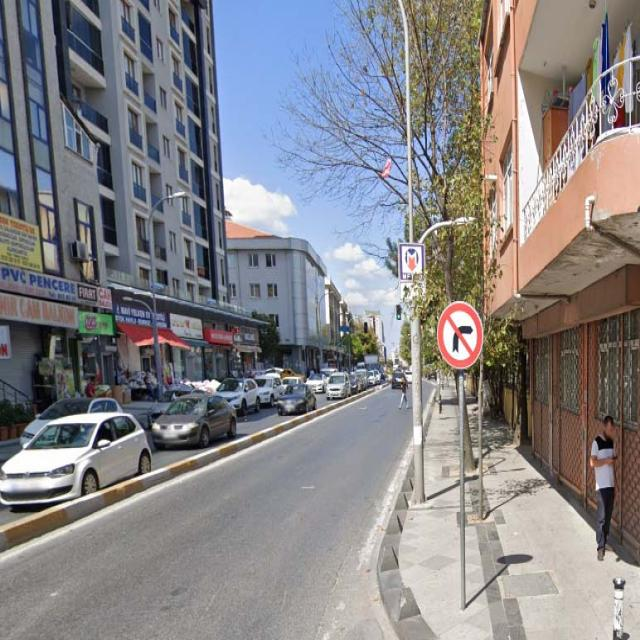sagadonulmez: (438, 302, 484, 370)
